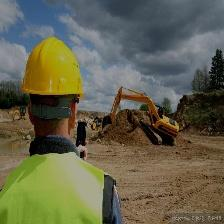Person: (1, 35, 132, 224)
helmet: (18, 37, 86, 96)
vest: (1, 149, 119, 224)
